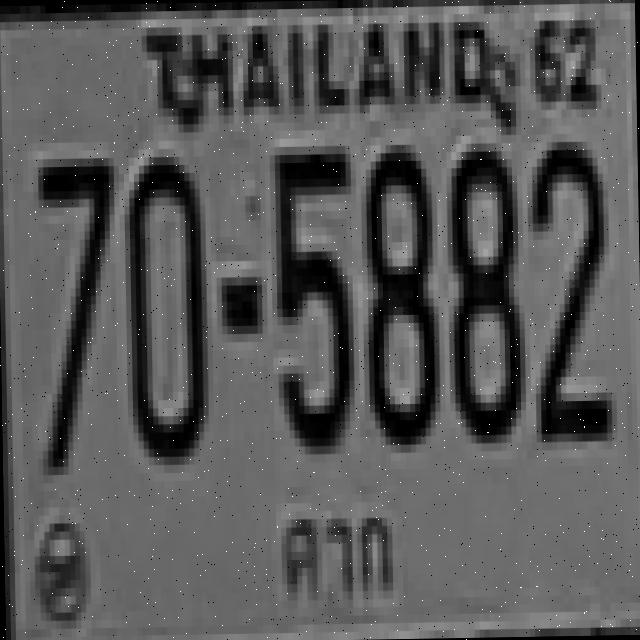0: (123, 148, 204, 456)
2: (526, 136, 607, 438)
5: (269, 145, 350, 446)
7: (32, 150, 114, 467), (32, 150, 112, 362)
8: (446, 142, 522, 435), (360, 144, 436, 436)
Tak: (271, 495, 411, 618)
